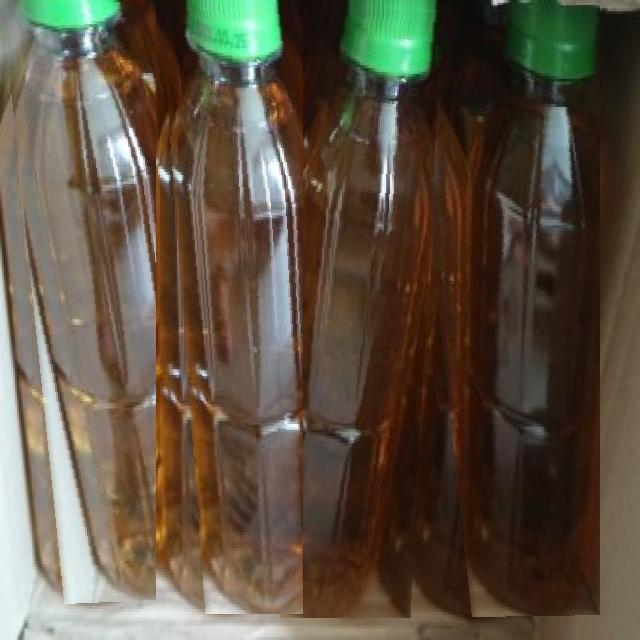plastic bottle: (404, 5, 600, 618), (280, 2, 442, 618), (2, 2, 156, 604), (160, 2, 303, 614)
